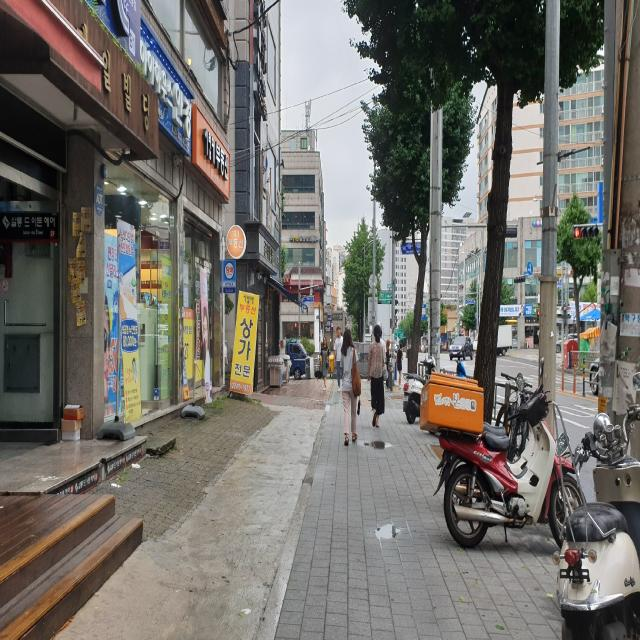car: (285, 339, 309, 378)
motorbike: (420, 358, 587, 555), (552, 372, 640, 640), (402, 345, 438, 424)
